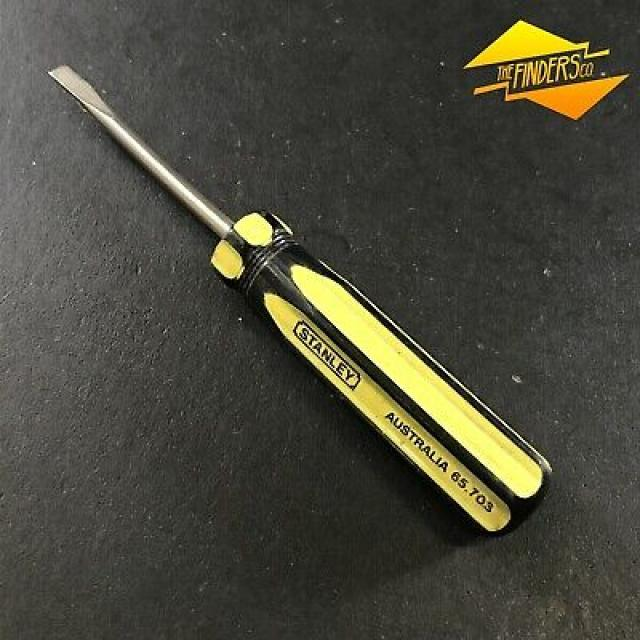screwdriver: (44, 59, 558, 538)
